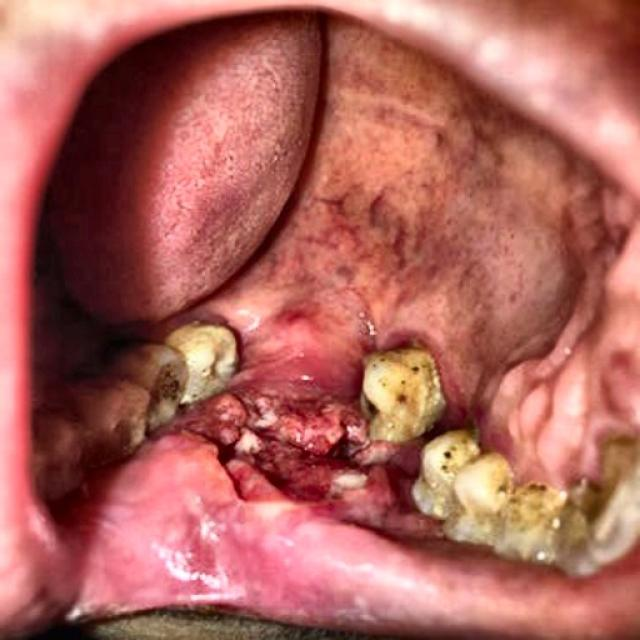cancer-detection: (143, 291, 451, 545)
processing_area: (2, 17, 639, 626)
